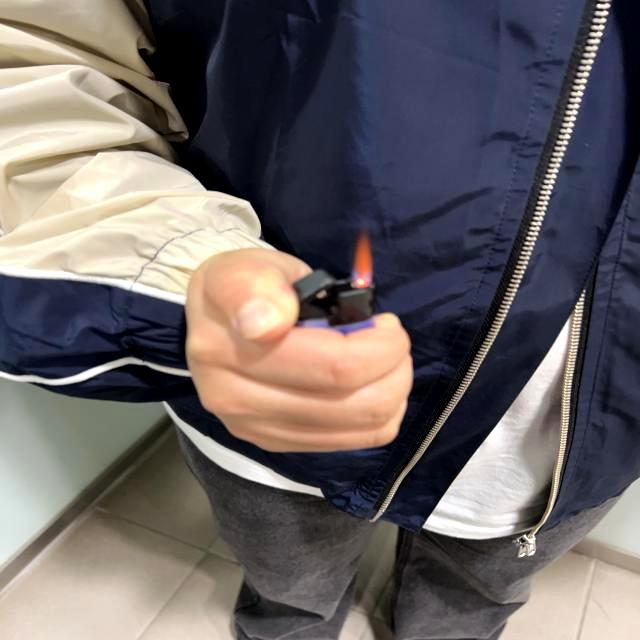fire: (354, 226, 374, 290)
